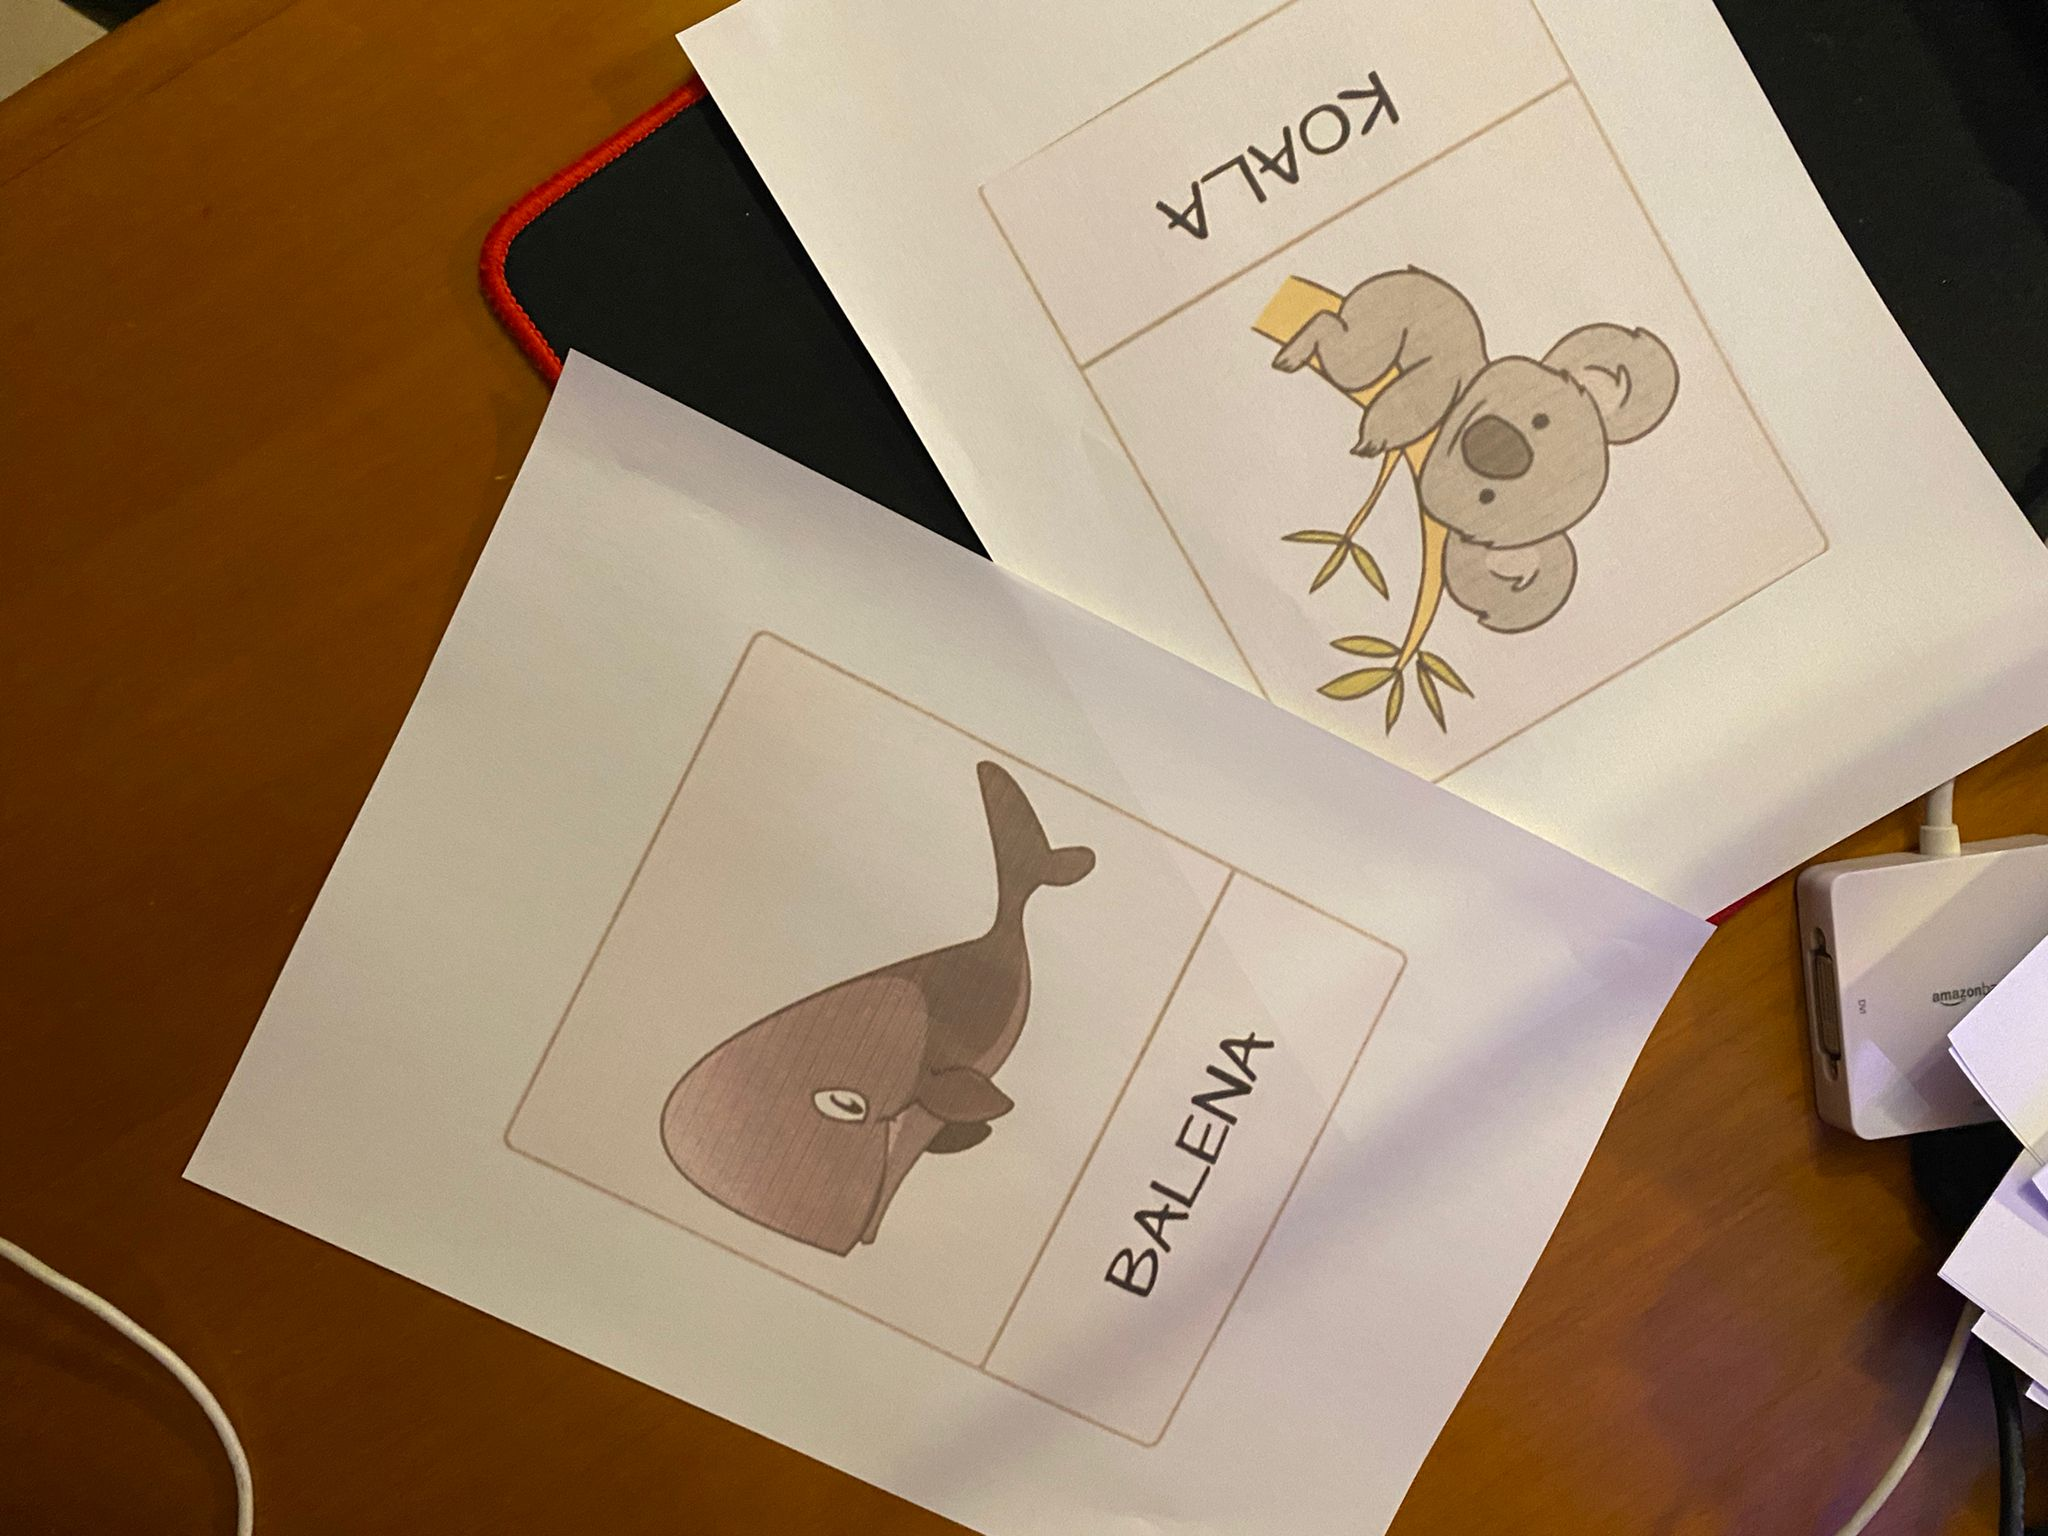balena: (638, 735, 1305, 1382)
koala: (1078, 49, 1715, 769)
